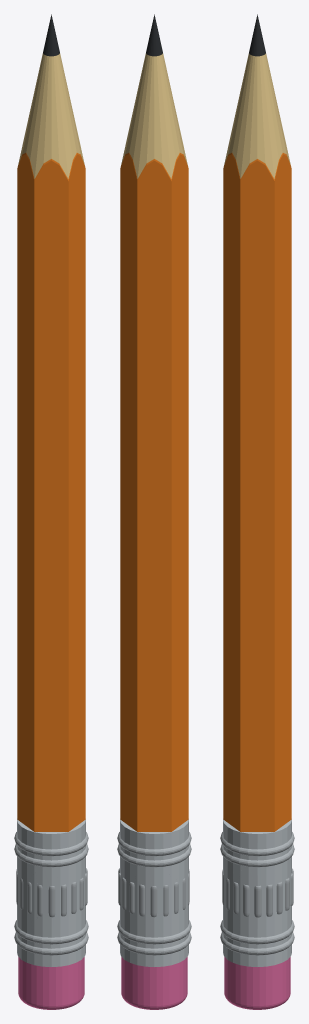
File: pencil.obj
3 renders of one model, left to right at view 1: azimuth 30°, elevation 25°; view 2: azimuth 150°, elevation 25°; view 3: azimuth 330°, elevation 25°, orthographic.
Parts seen in each view (by area): view 1: group_0_16089887, group_0_12568524, group_0_15256974, group_0_10988977, group_0_15102120, group_0_2829873; view 2: group_0_16089887, group_0_12568524, group_0_15256974, group_0_10988977, group_0_15102120, group_0_2829873; view 3: group_0_16089887, group_0_12568524, group_0_15256974, group_0_10988977, group_0_15102120, group_0_2829873.
Boxes of the visible parts, bbox=[...] form: group_0_16089887: bbox=[17, 153, 85, 831]; group_0_12568524: bbox=[17, 819, 85, 966]; group_0_15256974: bbox=[18, 53, 84, 178]; group_0_10988977: bbox=[14, 832, 88, 955]; group_0_15102120: bbox=[18, 957, 84, 1009]; group_0_2829873: bbox=[43, 14, 59, 56]; group_0_16089887: bbox=[120, 153, 188, 831]; group_0_12568524: bbox=[120, 819, 188, 966]; group_0_15256974: bbox=[121, 53, 187, 178]; group_0_10988977: bbox=[117, 832, 191, 955]; group_0_15102120: bbox=[121, 957, 187, 1009]; group_0_2829873: bbox=[146, 14, 162, 56]; group_0_16089887: bbox=[223, 153, 291, 831]; group_0_12568524: bbox=[223, 819, 291, 966]; group_0_15256974: bbox=[224, 53, 290, 178]; group_0_10988977: bbox=[220, 832, 294, 955]; group_0_15102120: bbox=[224, 957, 290, 1009]; group_0_2829873: bbox=[249, 14, 265, 56].
Size of the model in its own units: 2.4 by 35 by 2.4.
